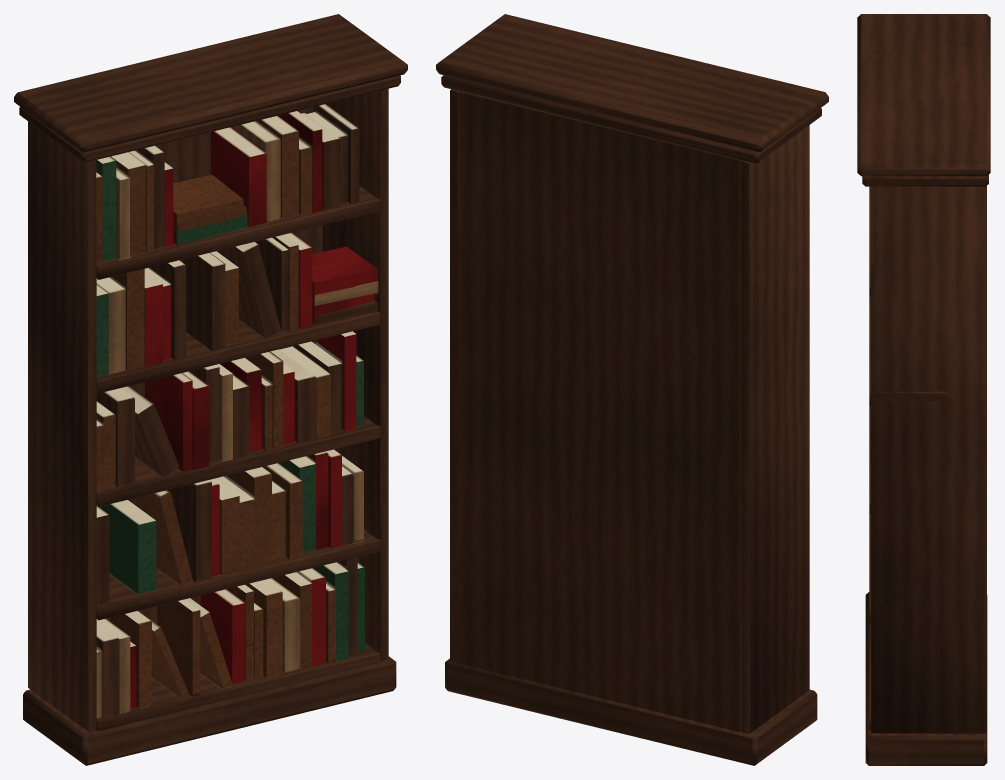
File: Bookshelf.fbx
3 views of the same model, side by side, from view 1: azimuth 30°, elevation 25°; view 2: azimuth 150°, elevation 25°; view 3: azimuth 270°, elevation 25° (orthographic). The views are drawn at different scales.
Visible parts, largest first — view 1: Bookshelf; view 2: Bookshelf; view 3: Bookshelf.
Part boxes in pixels (<box>): Bookshelf: <box>14,14,407,765</box>; Bookshelf: <box>436,14,828,765</box>; Bookshelf: <box>857,14,990,765</box>.
Size of the model in its own units: 1.09 by 2 by 0.4.
